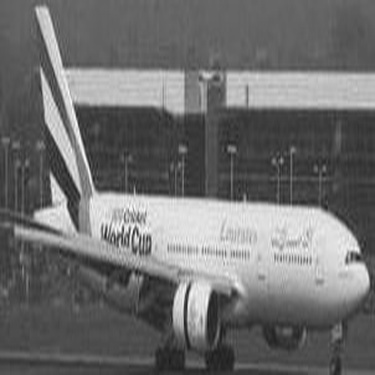airplane: (7, 3, 371, 369)
